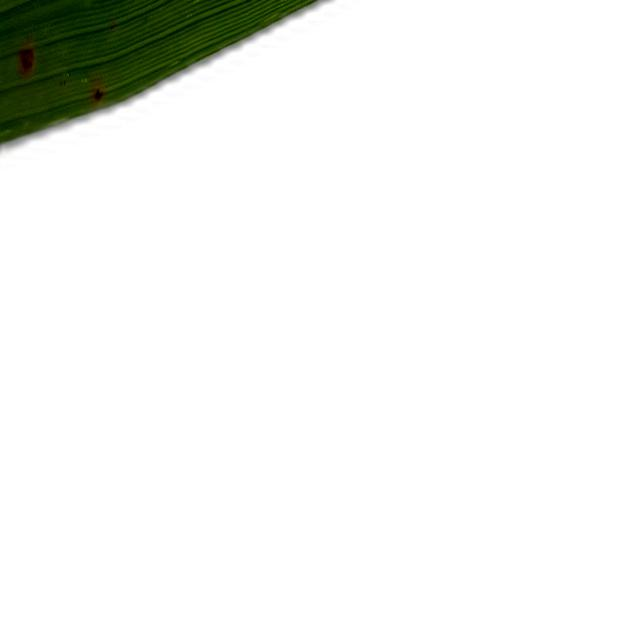LEAF BLAST: (19, 48, 34, 73)
